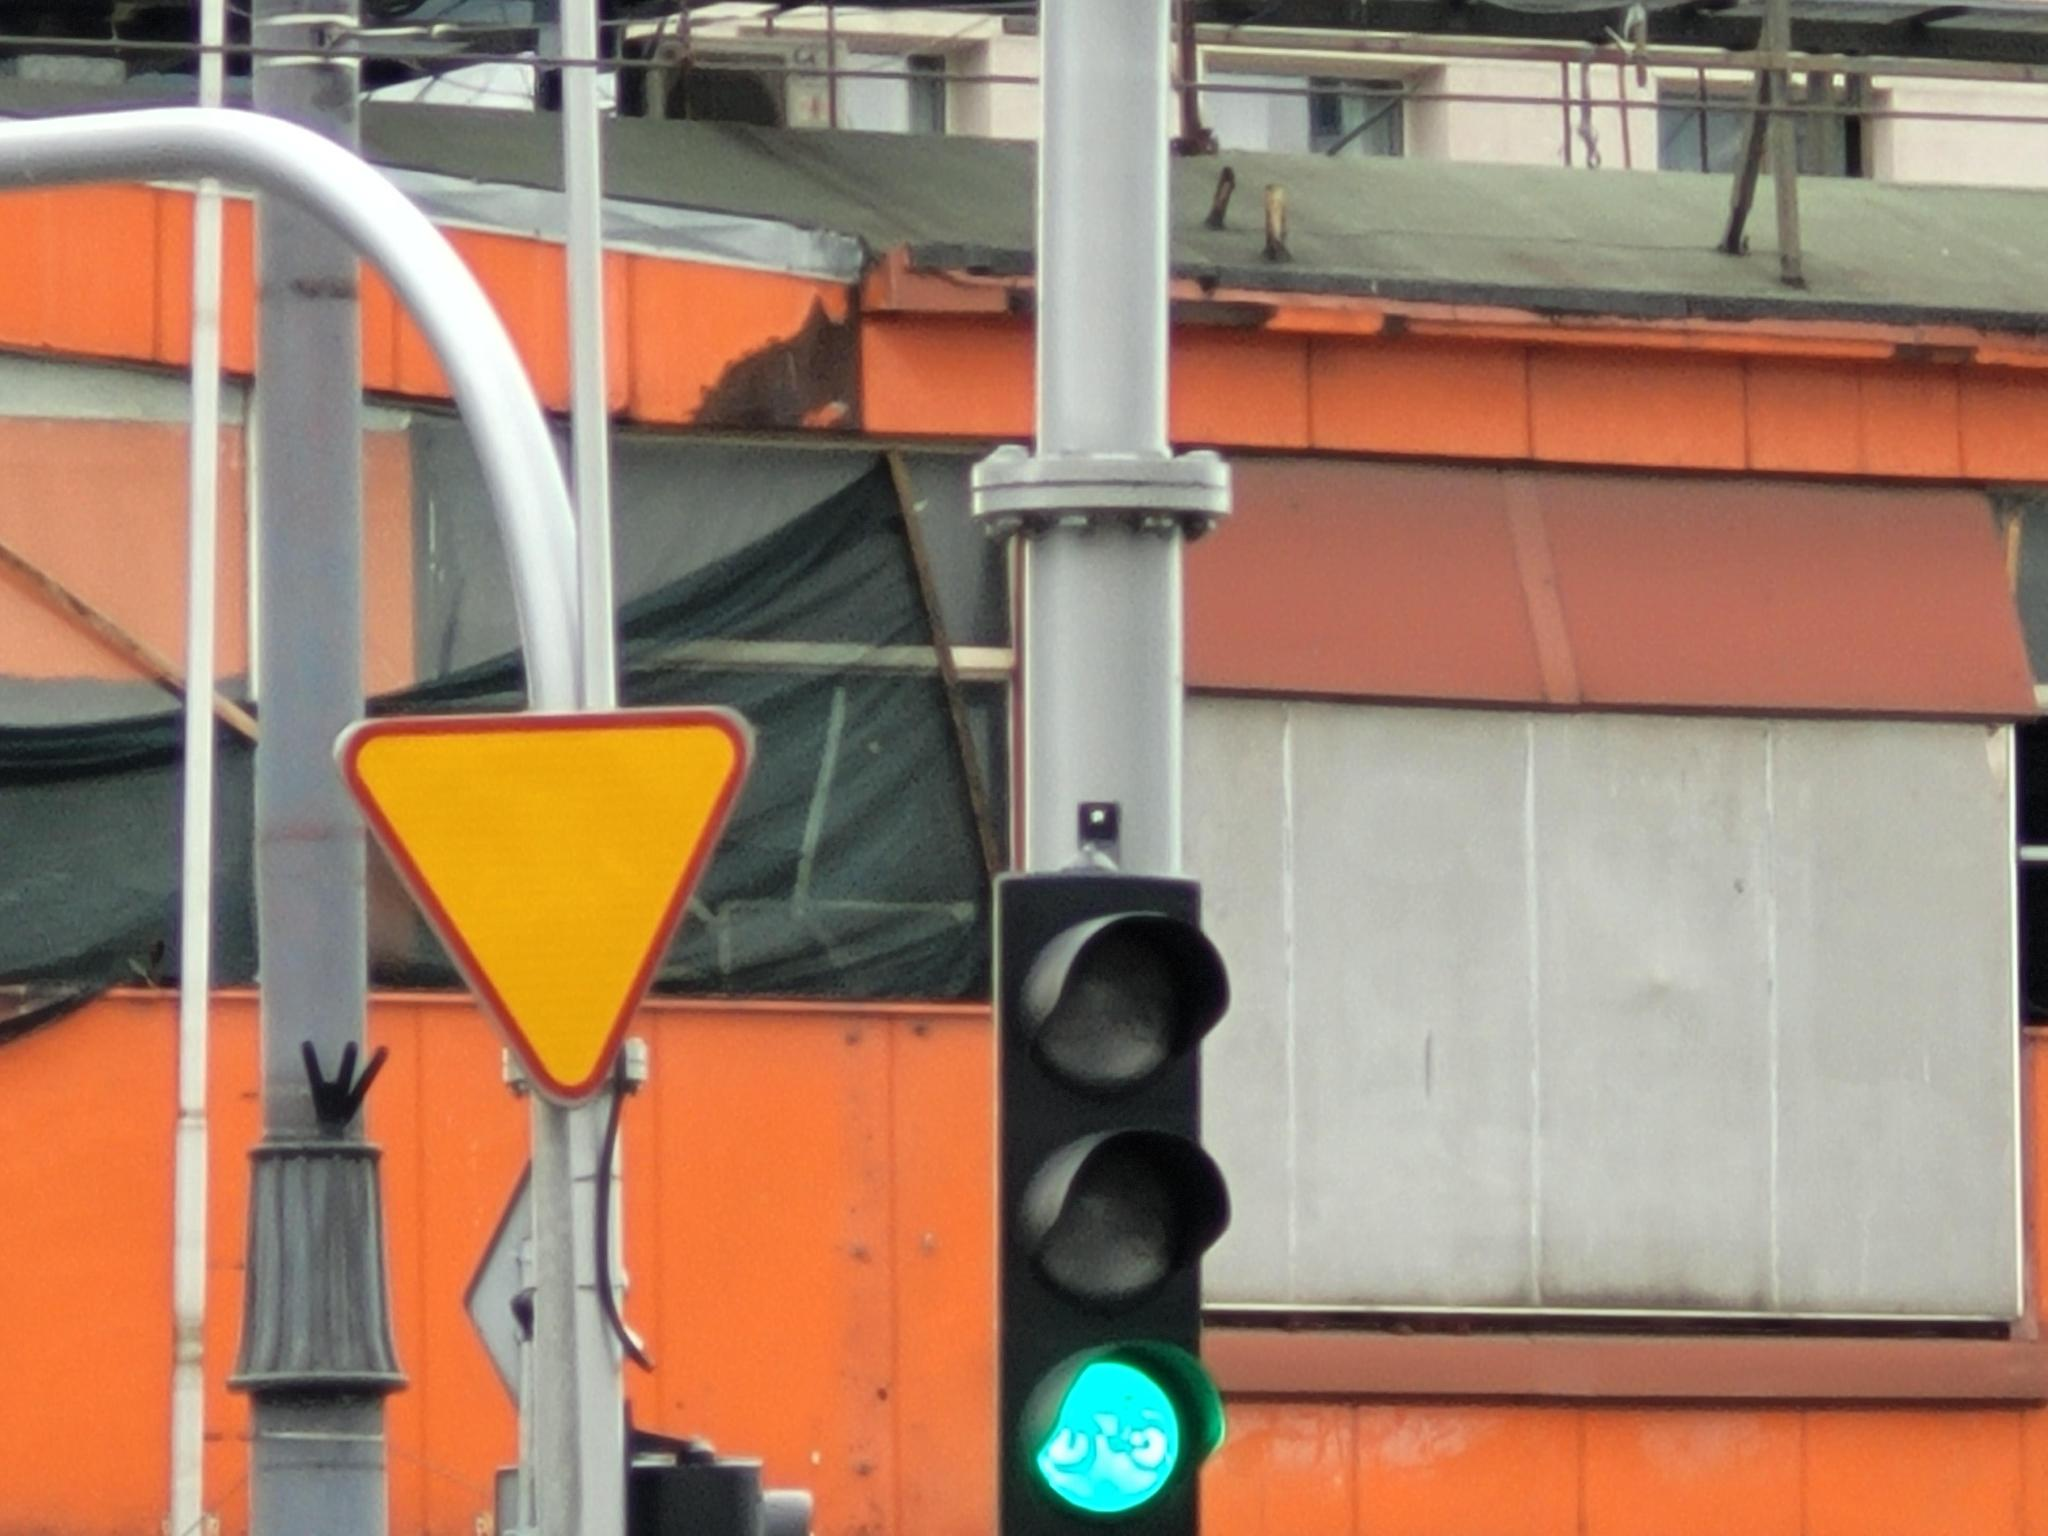warning: (337, 705, 761, 1108)
